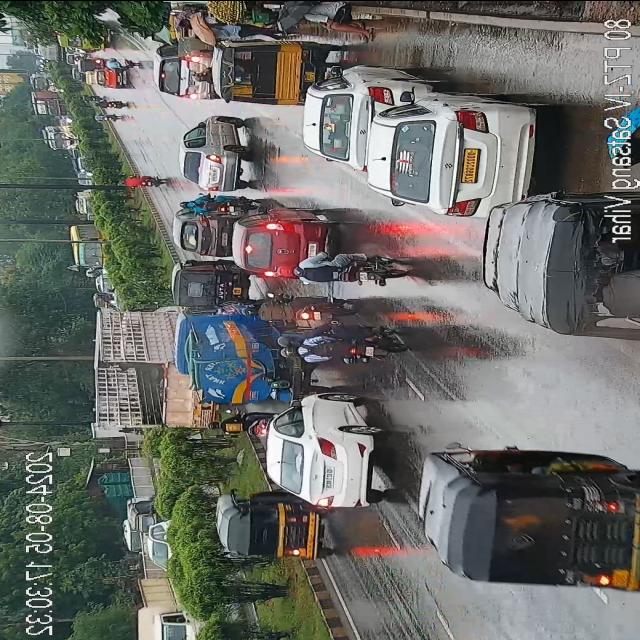2-wheelers: (273, 325, 415, 361), (276, 252, 406, 283), (238, 292, 356, 320), (176, 194, 253, 218), (115, 174, 163, 188), (103, 58, 139, 67), (97, 100, 126, 108), (92, 114, 118, 122)
auto: (409, 432, 640, 594), (211, 40, 327, 98), (221, 499, 328, 557), (160, 255, 247, 308)
bus: (66, 218, 108, 264), (40, 122, 74, 148)
car: (371, 96, 545, 213), (266, 392, 372, 506), (308, 69, 410, 157), (170, 116, 248, 191), (236, 206, 331, 258), (150, 41, 214, 98), (177, 217, 230, 250), (92, 68, 126, 90)
pedestrian: (299, 0, 377, 36), (193, 22, 286, 36), (178, 14, 216, 26)
truck: (90, 306, 242, 436), (176, 314, 286, 409)
